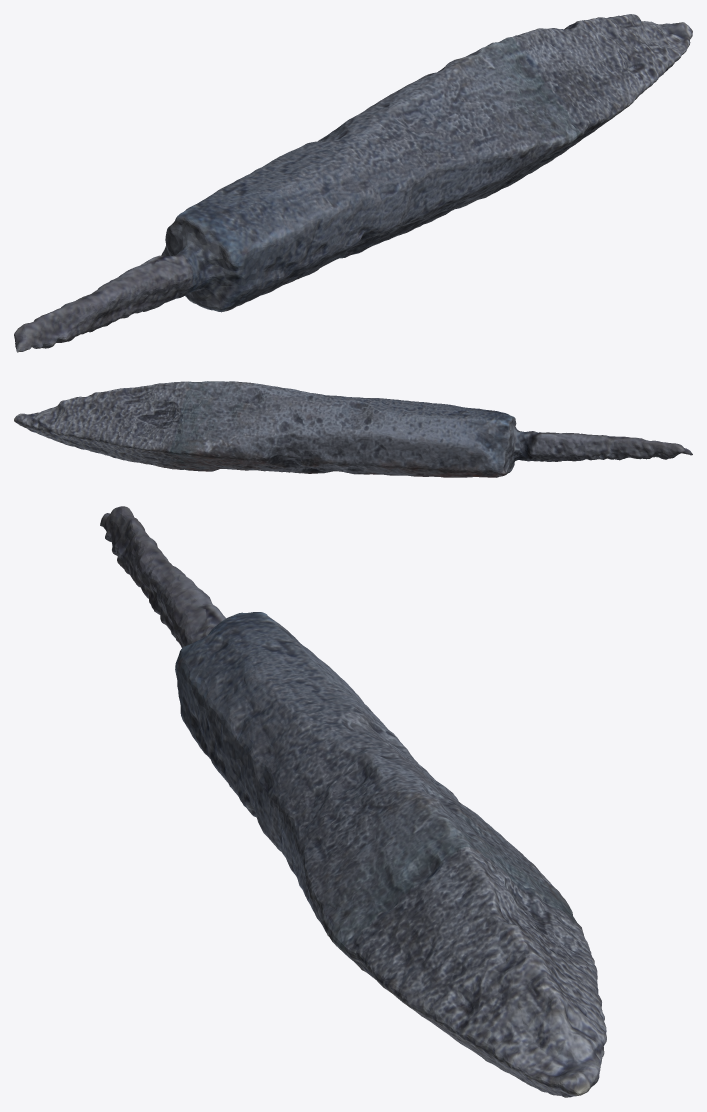
File: Strila1.glb
The picture shows the model from 3 angles, top to bottom: view 1: azimuth 30°, elevation 25°; view 2: azimuth 150°, elevation 25°; view 3: azimuth 270°, elevation 25°; orthographic projection. The views are drawn at different scales.
Visible parts, largest first — view 1: Strila2_full_scaled_textured; view 2: Strila2_full_scaled_textured; view 3: Strila2_full_scaled_textured.
Part boxes in pixels (left/top/right/bottom): Strila2_full_scaled_textured: left=14, top=14, right=692, bottom=352; Strila2_full_scaled_textured: left=14, top=381, right=692, bottom=477; Strila2_full_scaled_textured: left=100, top=506, right=606, bottom=1097.
Size of the model in its own units: 0.2104 by 0.0336 by 0.0825.
1 material, 1 textured.
